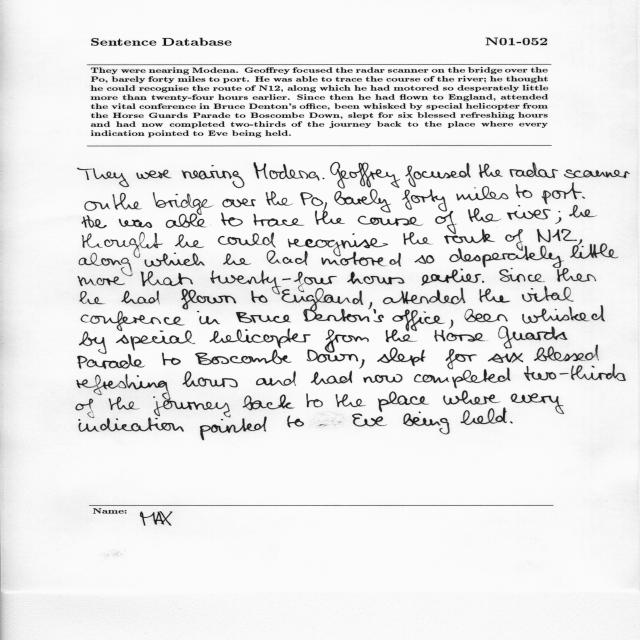word: (210, 270, 337, 294), (281, 288, 370, 322), (537, 229, 618, 259), (288, 234, 388, 257), (82, 232, 163, 258), (79, 412, 184, 432), (236, 309, 384, 323), (210, 329, 311, 348), (77, 374, 168, 395), (330, 162, 400, 189), (542, 183, 596, 218), (534, 346, 615, 369), (414, 370, 510, 389), (200, 413, 267, 440), (153, 390, 230, 413), (116, 330, 195, 351), (81, 311, 161, 331), (499, 326, 568, 349), (405, 163, 471, 187), (482, 249, 564, 268), (522, 306, 605, 324), (195, 350, 292, 365), (182, 165, 245, 188), (383, 288, 465, 305), (153, 192, 213, 215), (443, 390, 506, 411), (335, 189, 392, 212), (456, 186, 509, 210), (254, 162, 320, 181), (524, 369, 626, 381), (79, 253, 132, 276), (392, 310, 445, 332), (181, 289, 236, 310), (511, 393, 564, 414), (422, 269, 485, 286), (378, 392, 429, 413), (403, 412, 449, 435), (325, 329, 369, 353), (402, 189, 447, 212), (444, 229, 495, 249), (78, 354, 145, 369), (321, 252, 387, 267), (415, 249, 481, 264), (78, 168, 129, 187), (183, 371, 238, 388), (319, 414, 387, 427), (377, 348, 426, 366), (218, 233, 276, 248), (145, 253, 205, 267), (243, 395, 295, 411), (141, 271, 193, 286), (510, 162, 558, 178), (522, 287, 573, 302), (347, 272, 405, 285), (511, 268, 546, 287), (254, 214, 305, 227), (307, 350, 358, 363), (358, 216, 424, 226), (79, 331, 107, 354), (461, 411, 507, 425), (488, 353, 528, 369), (446, 349, 477, 369), (166, 213, 207, 228), (267, 251, 308, 266), (434, 330, 485, 342), (256, 371, 296, 386), (564, 170, 630, 179), (311, 371, 352, 385), (465, 309, 508, 322), (557, 268, 596, 282), (121, 290, 160, 304), (435, 211, 457, 234), (113, 193, 142, 210), (505, 229, 527, 251), (78, 276, 125, 286), (315, 210, 345, 225), (468, 210, 501, 223), (480, 289, 510, 303), (336, 394, 366, 408), (507, 210, 548, 220), (175, 234, 204, 248), (266, 191, 293, 206), (386, 330, 417, 343), (109, 397, 140, 410), (404, 232, 433, 245), (516, 185, 533, 207), (364, 374, 403, 383), (500, 269, 526, 282), (479, 164, 503, 178), (223, 254, 251, 266), (82, 216, 107, 229), (80, 291, 105, 304), (136, 170, 172, 179), (300, 192, 323, 206), (221, 213, 243, 227), (222, 199, 256, 208), (197, 311, 220, 324), (119, 219, 152, 228), (76, 398, 93, 413), (85, 201, 110, 211), (162, 353, 181, 366), (306, 394, 323, 408), (251, 291, 268, 303), (287, 416, 304, 428), (164, 317, 185, 326), (389, 253, 401, 267), (556, 211, 562, 224), (360, 359, 365, 369), (449, 320, 453, 329), (369, 302, 373, 309), (324, 202, 327, 210), (582, 196, 585, 199), (510, 422, 513, 424), (547, 210, 551, 211), (581, 246, 584, 247), (323, 178, 325, 179)
